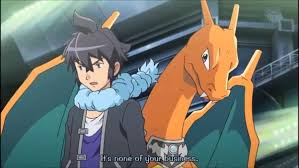charizard: (1, 2, 265, 168)
